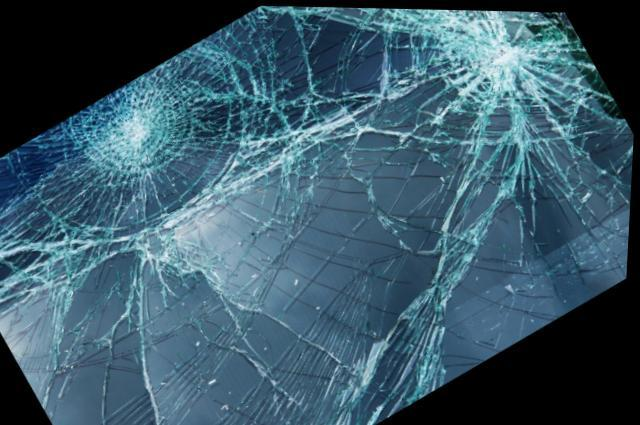glass shatter: (0, 5, 635, 425)
